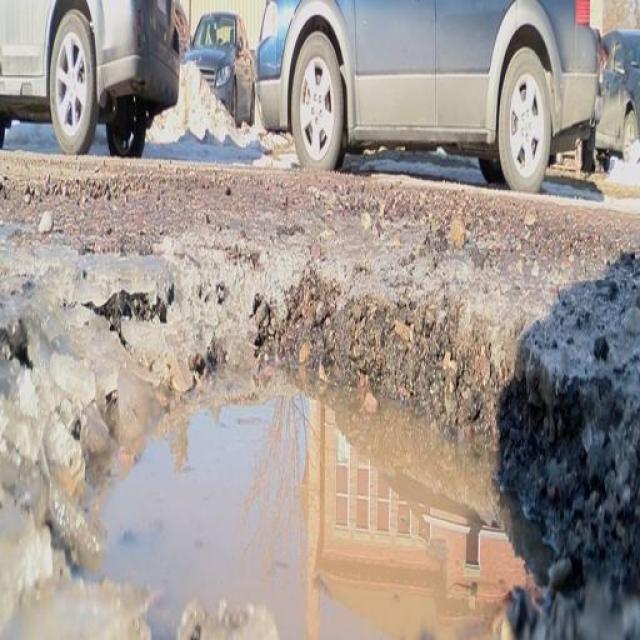puddle: (120, 393, 506, 640)
